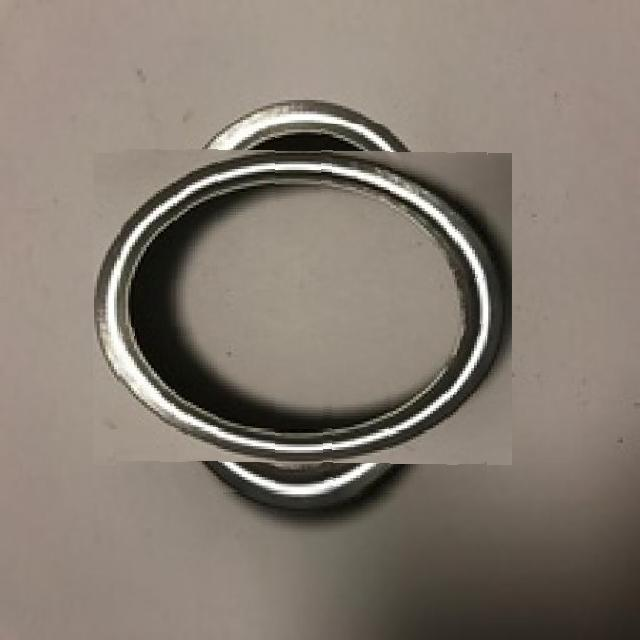recyclable: (118, 124, 487, 493)
